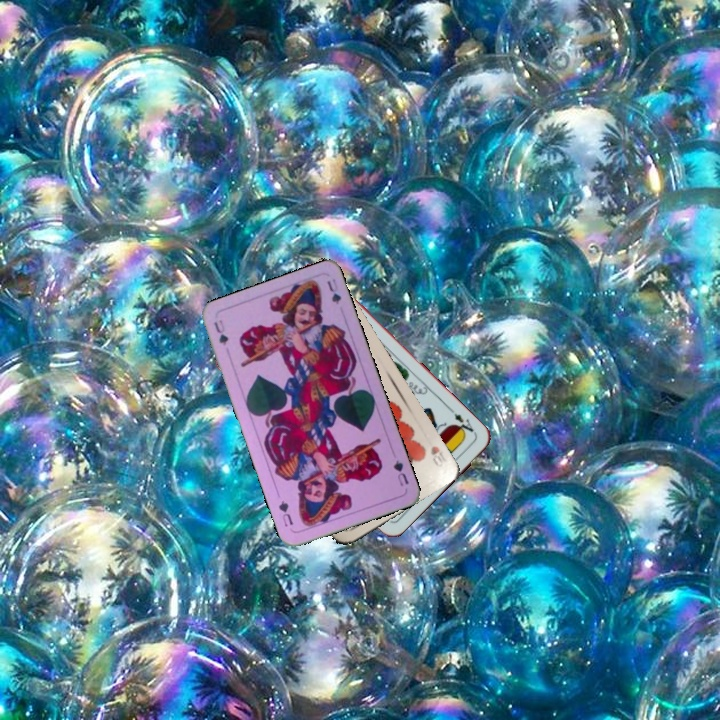EA: (446, 404, 479, 438)
GU: (389, 456, 412, 489), (209, 316, 231, 348)
H10: (426, 442, 448, 470)
